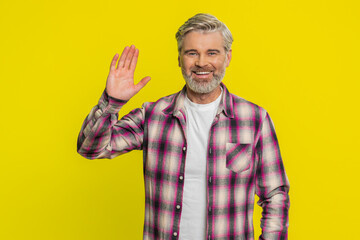Hello: (103, 43, 152, 102)
